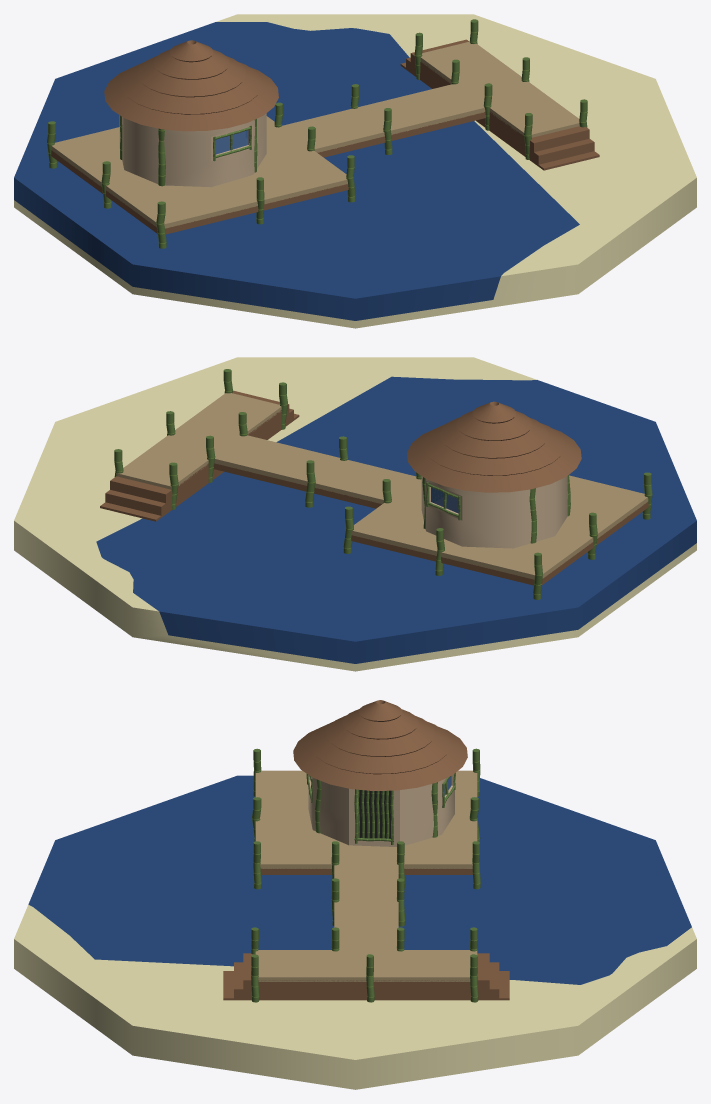
File: 0f143898-5bfa-4d73-b52a-50b63c5b9db2.glb
The picture shows the model from 3 angles, top to bottom: view 1: azimuth 30°, elevation 25°; view 2: azimuth 150°, elevation 25°; view 3: azimuth 270°, elevation 25°; orthographic projection.
Parts seen in each view (by area): view 1: Cylinder041, Box002; view 2: Cylinder041, Box002; view 3: Cylinder041, Box002.
Part boxes in pixels (x1,y1,x2,y2): Cylinder041: (14,14,696,328); Box002: (47,19,599,248); Cylinder041: (14,357,696,671); Box002: (100,369,652,599); Cylinder041: (14,775,696,1089); Box002: (223,700,509,1002).
Bounding box in the file's own units: 152 × 41.63 × 154.
